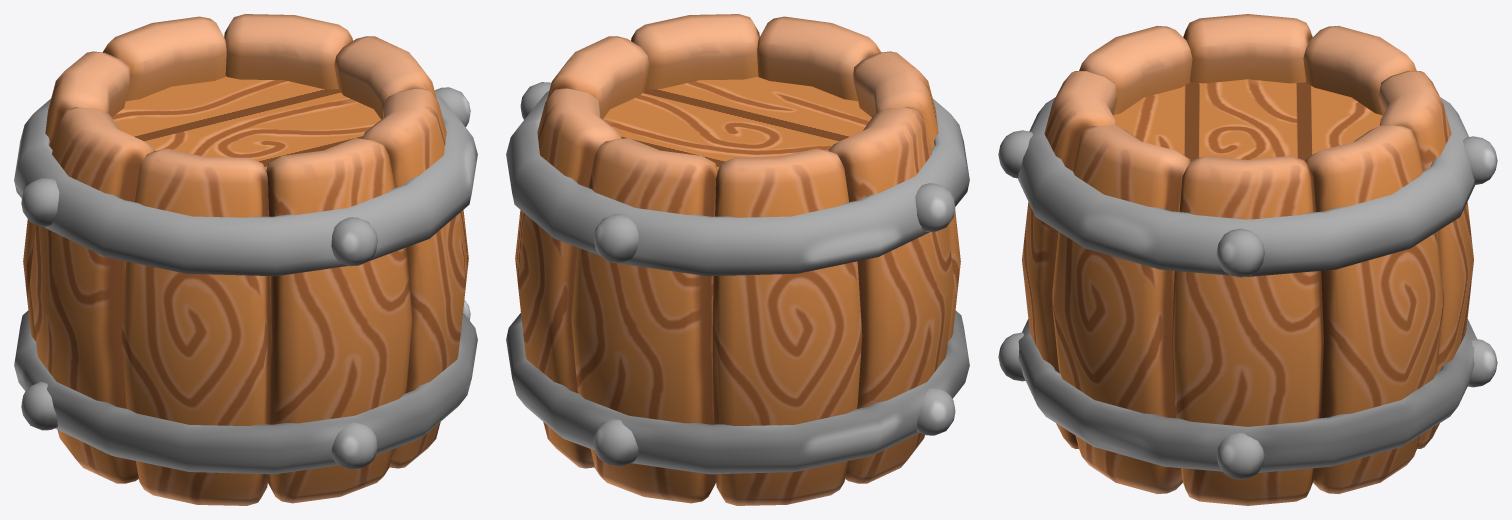
File: barrel.fbx
3 renders of one model, left to right at view 1: azimuth 30°, elevation 25°; view 2: azimuth 150°, elevation 25°; view 3: azimuth 270°, elevation 25°, orthographic.
Parts seen in each view (by area): view 1: barrel.005; view 2: barrel.005; view 3: barrel.005.
Part boxes in pixels (x1,y1,x2,y2): barrel.005: [14, 14, 477, 505]; barrel.005: [506, 14, 969, 505]; barrel.005: [998, 14, 1497, 505].
Bounding box in the file's own units: 109 × 81.87 × 109.
1 material, 1 textured.
